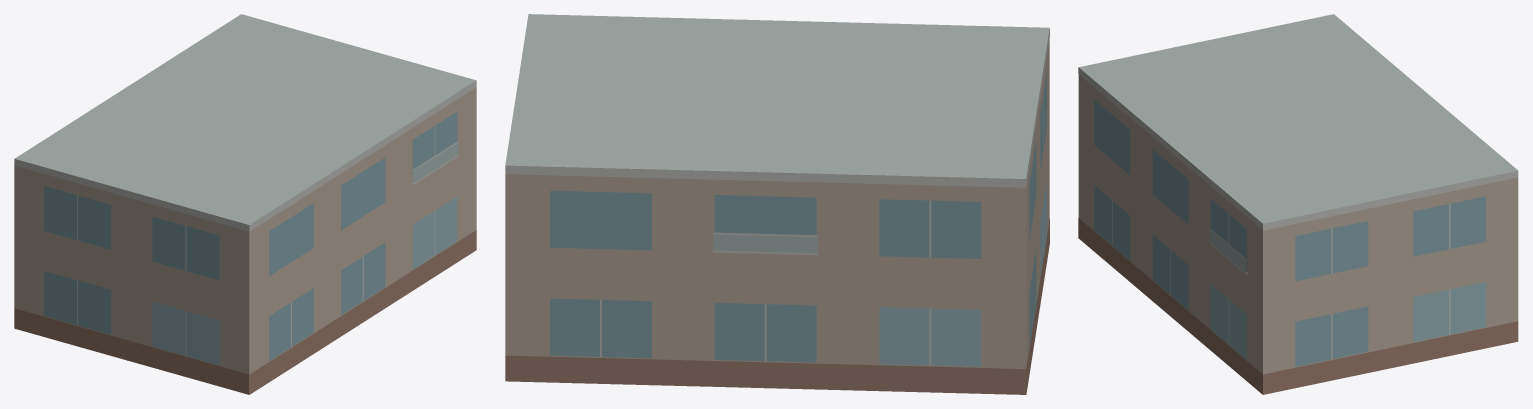
File: survey-upis-32806296.glb
The picture shows the model from 3 angles, left to right: view 1: azimuth 30°, elevation 25°; view 2: azimuth 150°, elevation 25°; view 3: azimuth 270°, elevation 25°; orthographic projection. The views are drawn at different scales.
Parts seen in each view (by area): view 1: survey-upis-32806296.tmp; view 2: survey-upis-32806296.tmp; view 3: survey-upis-32806296.tmp.
Part boxes in pixels (x1,y1,x2,y2): survey-upis-32806296.tmp: (14,14,476,394); survey-upis-32806296.tmp: (505,14,1049,394); survey-upis-32806296.tmp: (1078,14,1518,394).
Size of the model in its own units: 16.06 by 6.1 by 14.23.
